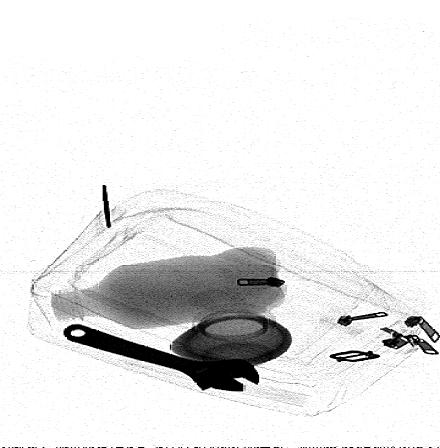Wrench: (60, 323, 262, 393)
